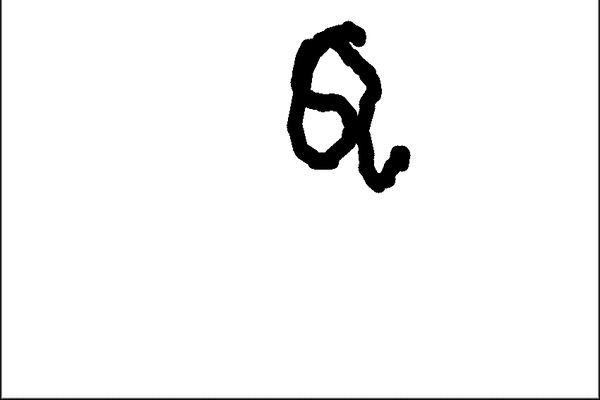Q: (277, 17, 408, 191)
